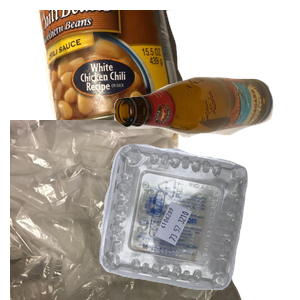glass: (111, 74, 300, 204)
metal: (34, 10, 213, 135)
plastic: (97, 141, 300, 300)
trash: (10, 120, 244, 300)
